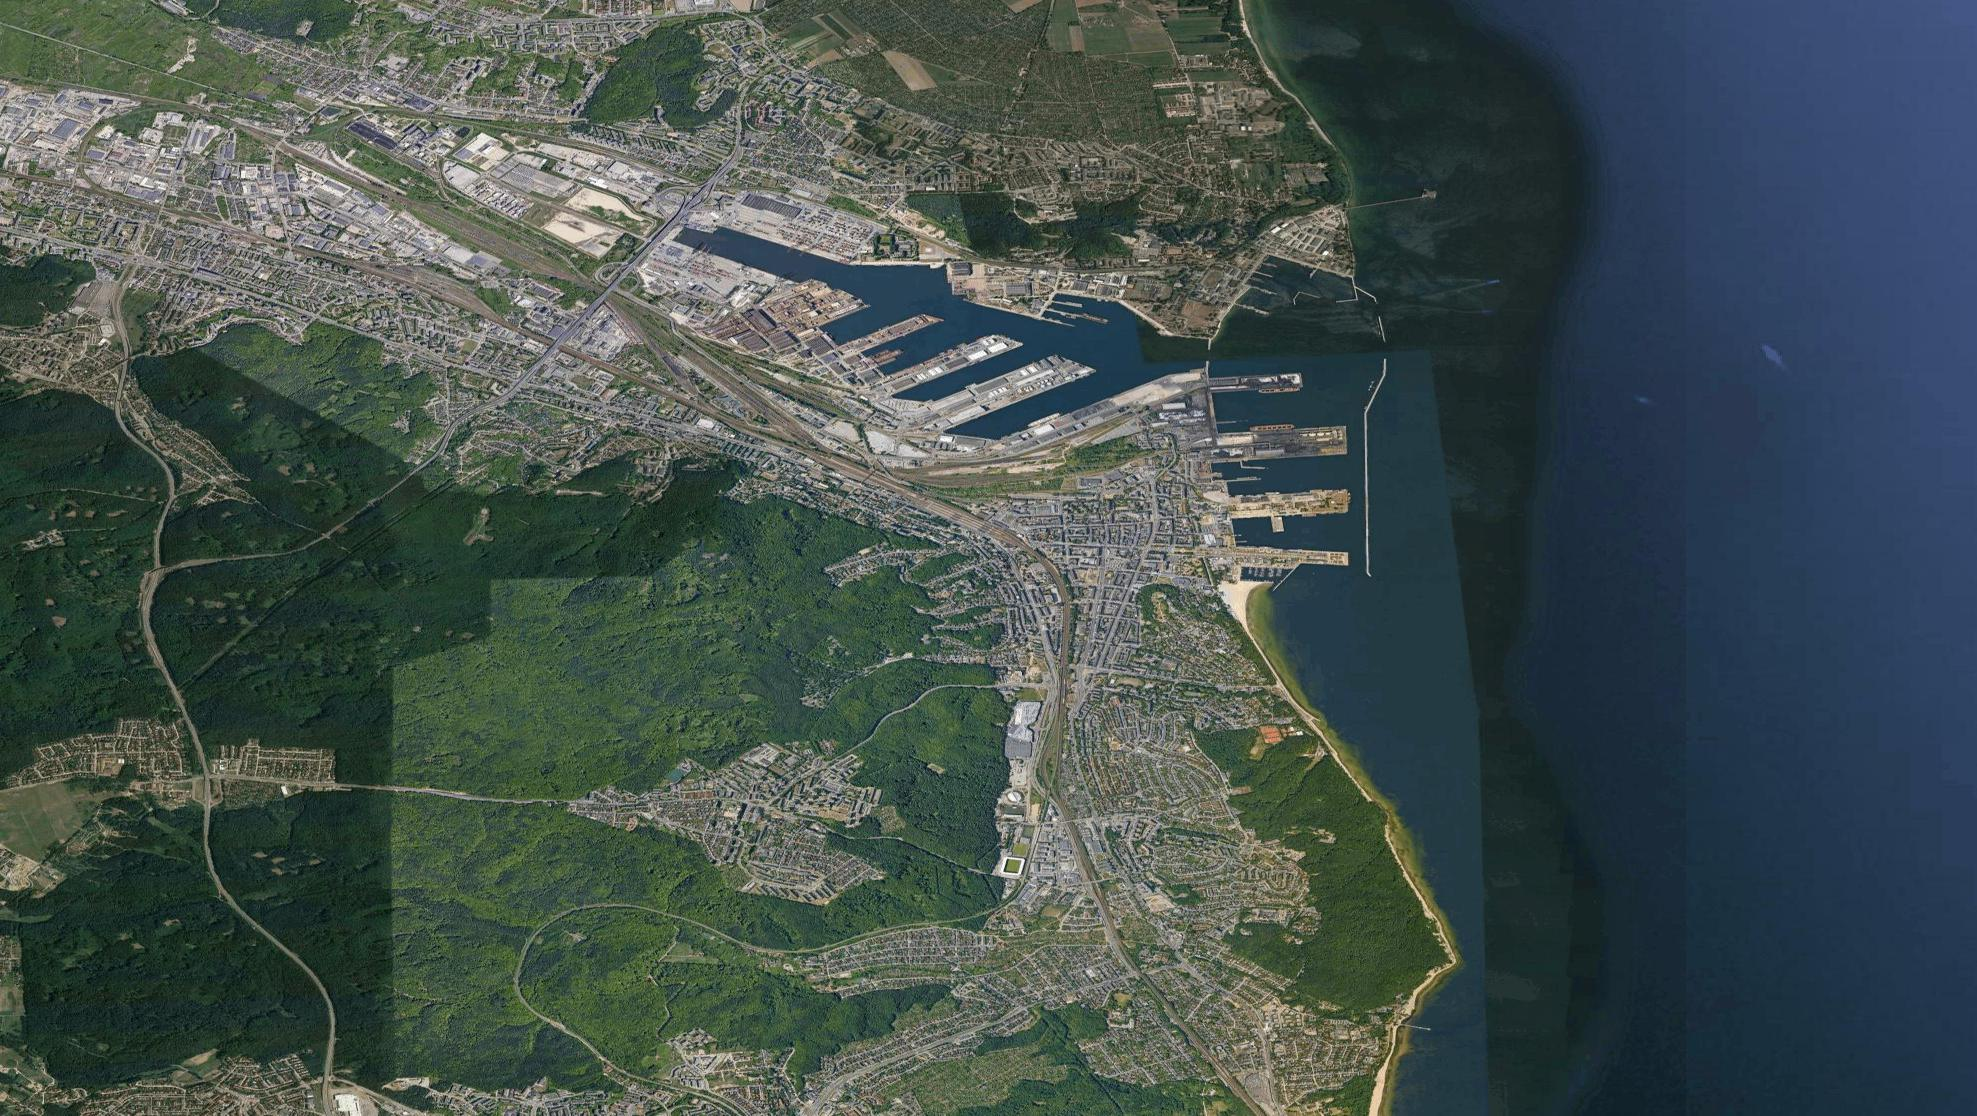harbor: (672, 213, 1126, 443), (1198, 349, 1386, 596), (1204, 235, 1388, 353)
motorway: (570, 209, 684, 327), (456, 327, 570, 425)
train_station: (817, 451, 1013, 542)
